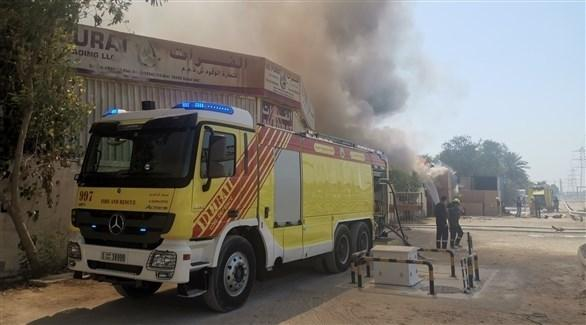firetruck_on: (65, 101, 392, 313)
